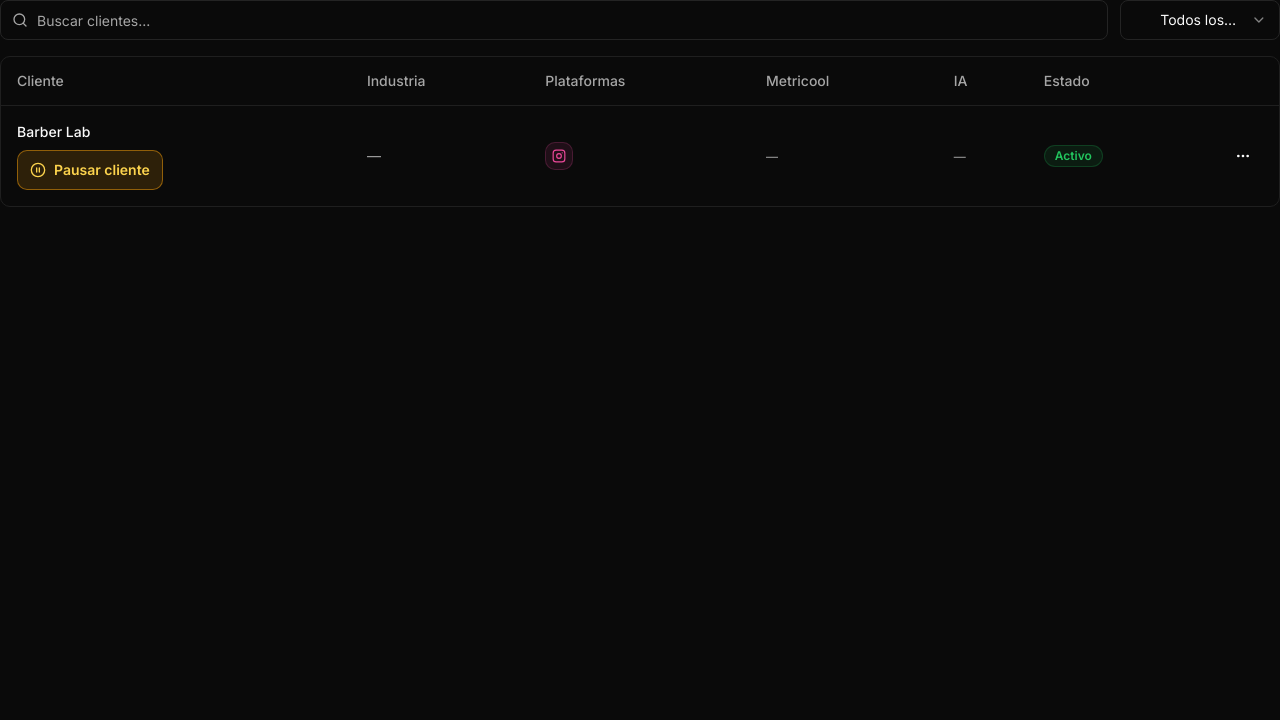
it: ClientTable — borrar sigue estando, pero avisa › el diálogo ofrece pausar como alternativa
The image size is (1280, 720).
Step 1. Click the button named "acciones" → (1243, 156), box [1223, 136, 1263, 176]
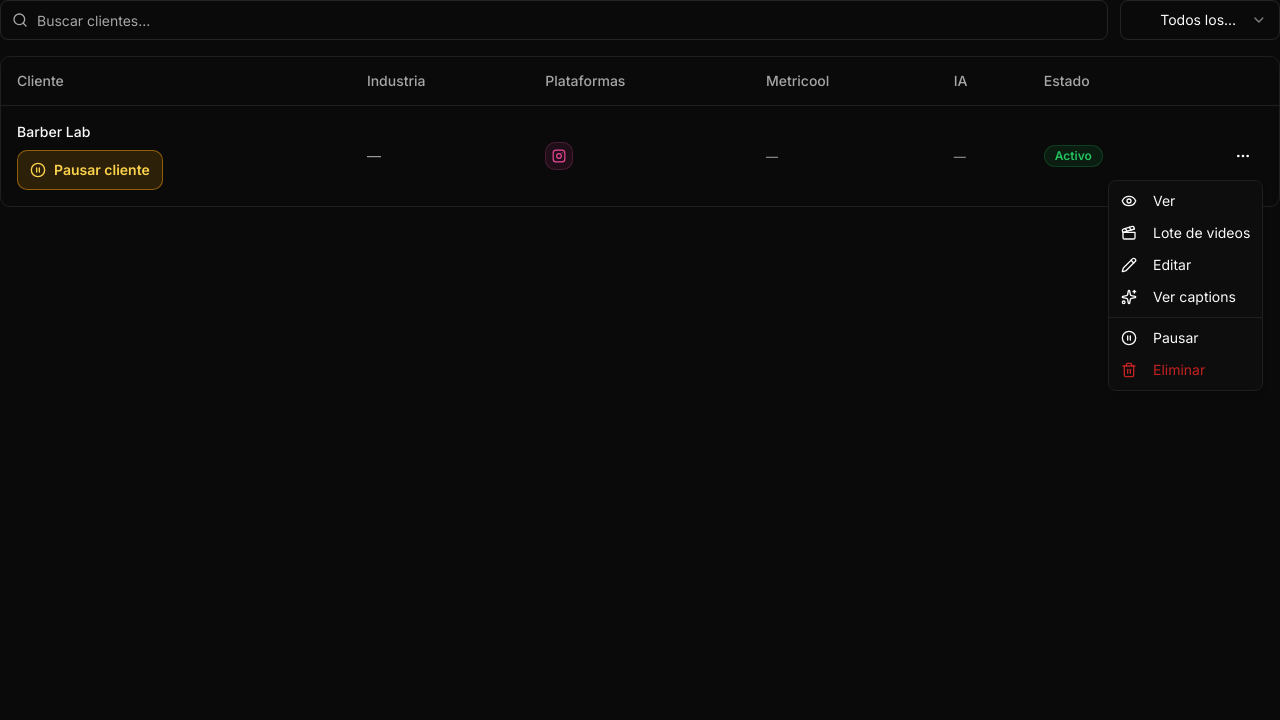
Step 2. Click the menu item "Eliminar" → (1163, 370), box [1121, 361, 1205, 378]
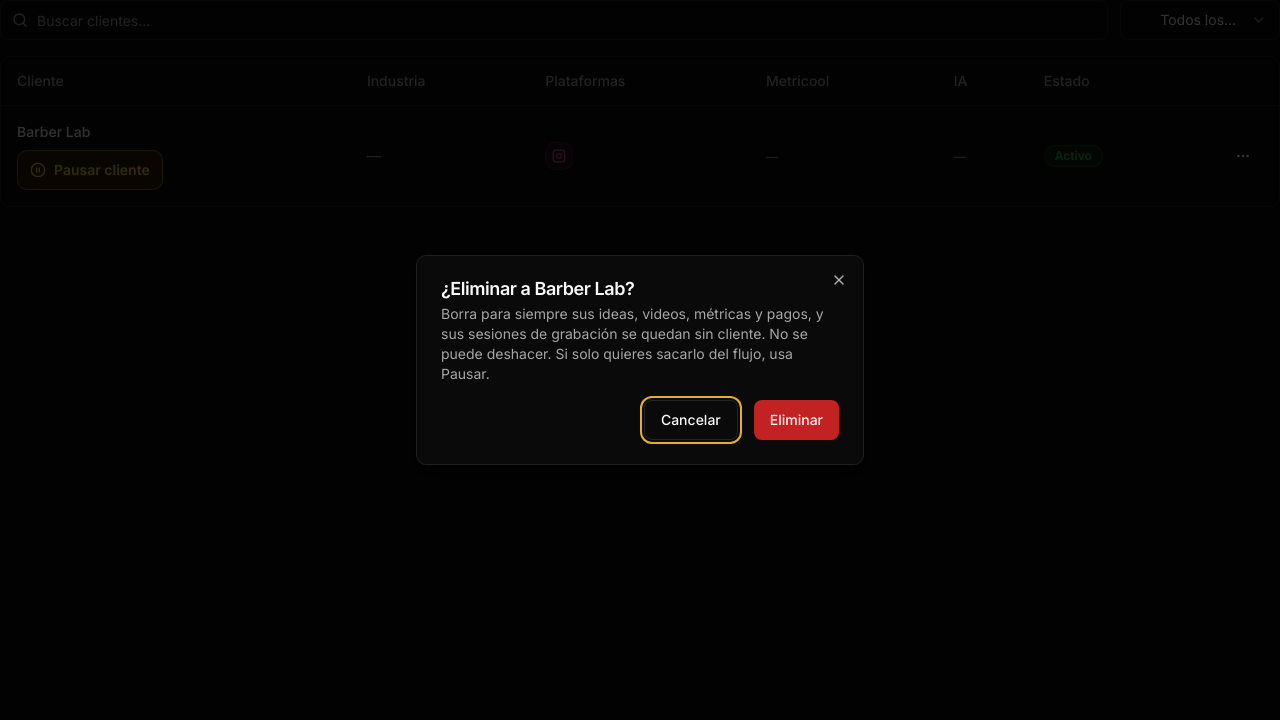
Check: the text "Si solo quieres sacarlo del flujo" is shown, box [441, 305, 824, 382]
